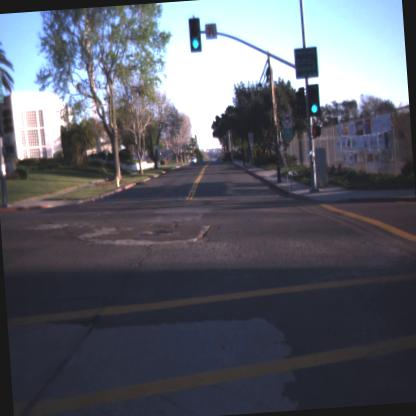trafficlight: (303, 82, 324, 123), (186, 15, 204, 55)
